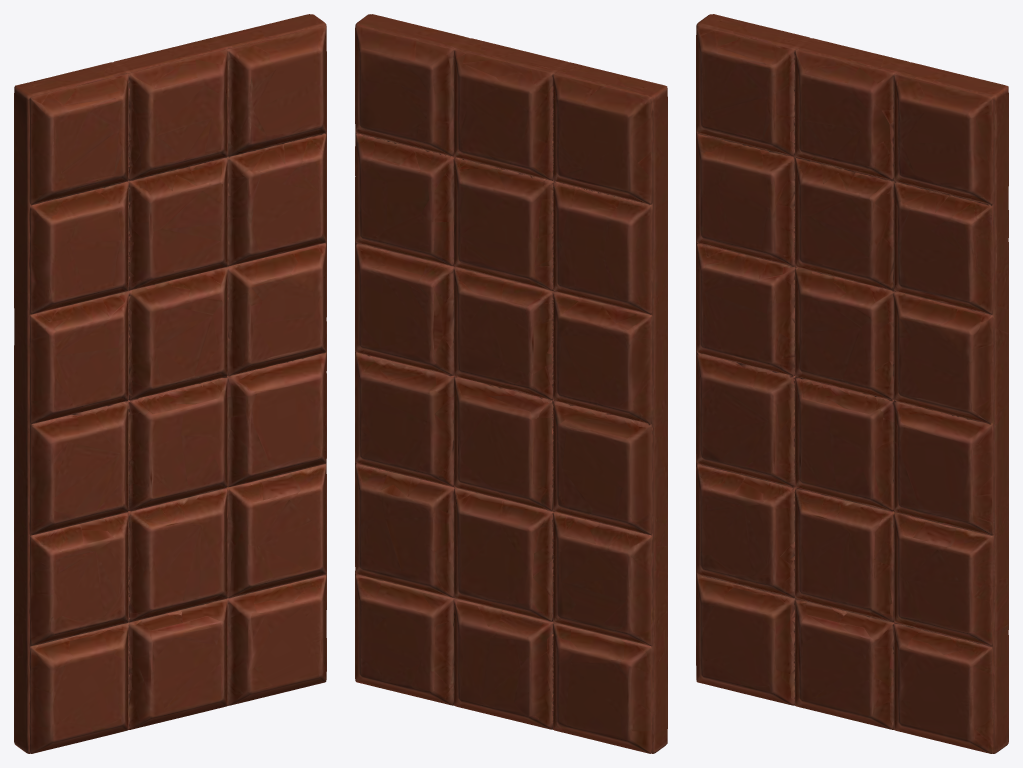
The picture shows the model from 3 angles, left to right: view 1: azimuth 30°, elevation 25°; view 2: azimuth 150°, elevation 25°; view 3: azimuth 330°, elevation 25°; orthographic projection.
Bounding box in the file's own units: 0.9076 × 1.9 × 0.1766.
1 material, 1 textured.
